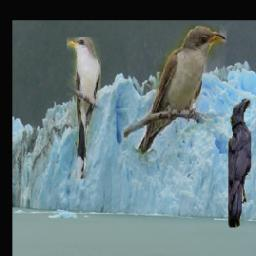Crow: (228, 99, 251, 227)
Cuckoo: (124, 25, 226, 174), (67, 37, 101, 179)
